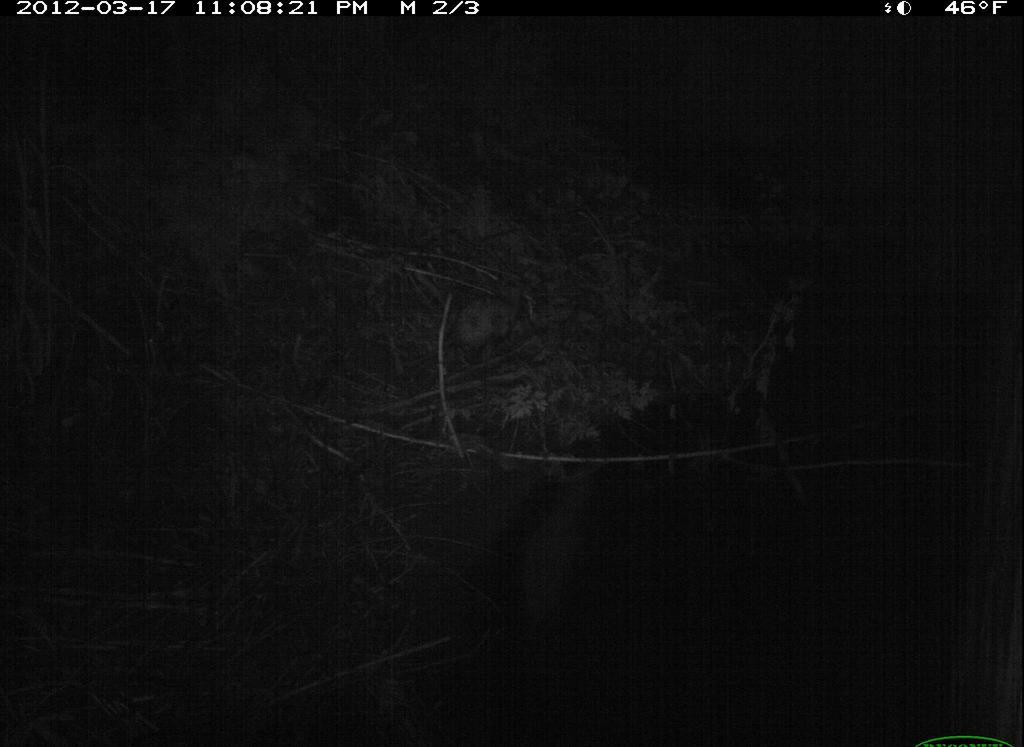opossum: (445, 292, 529, 355)
